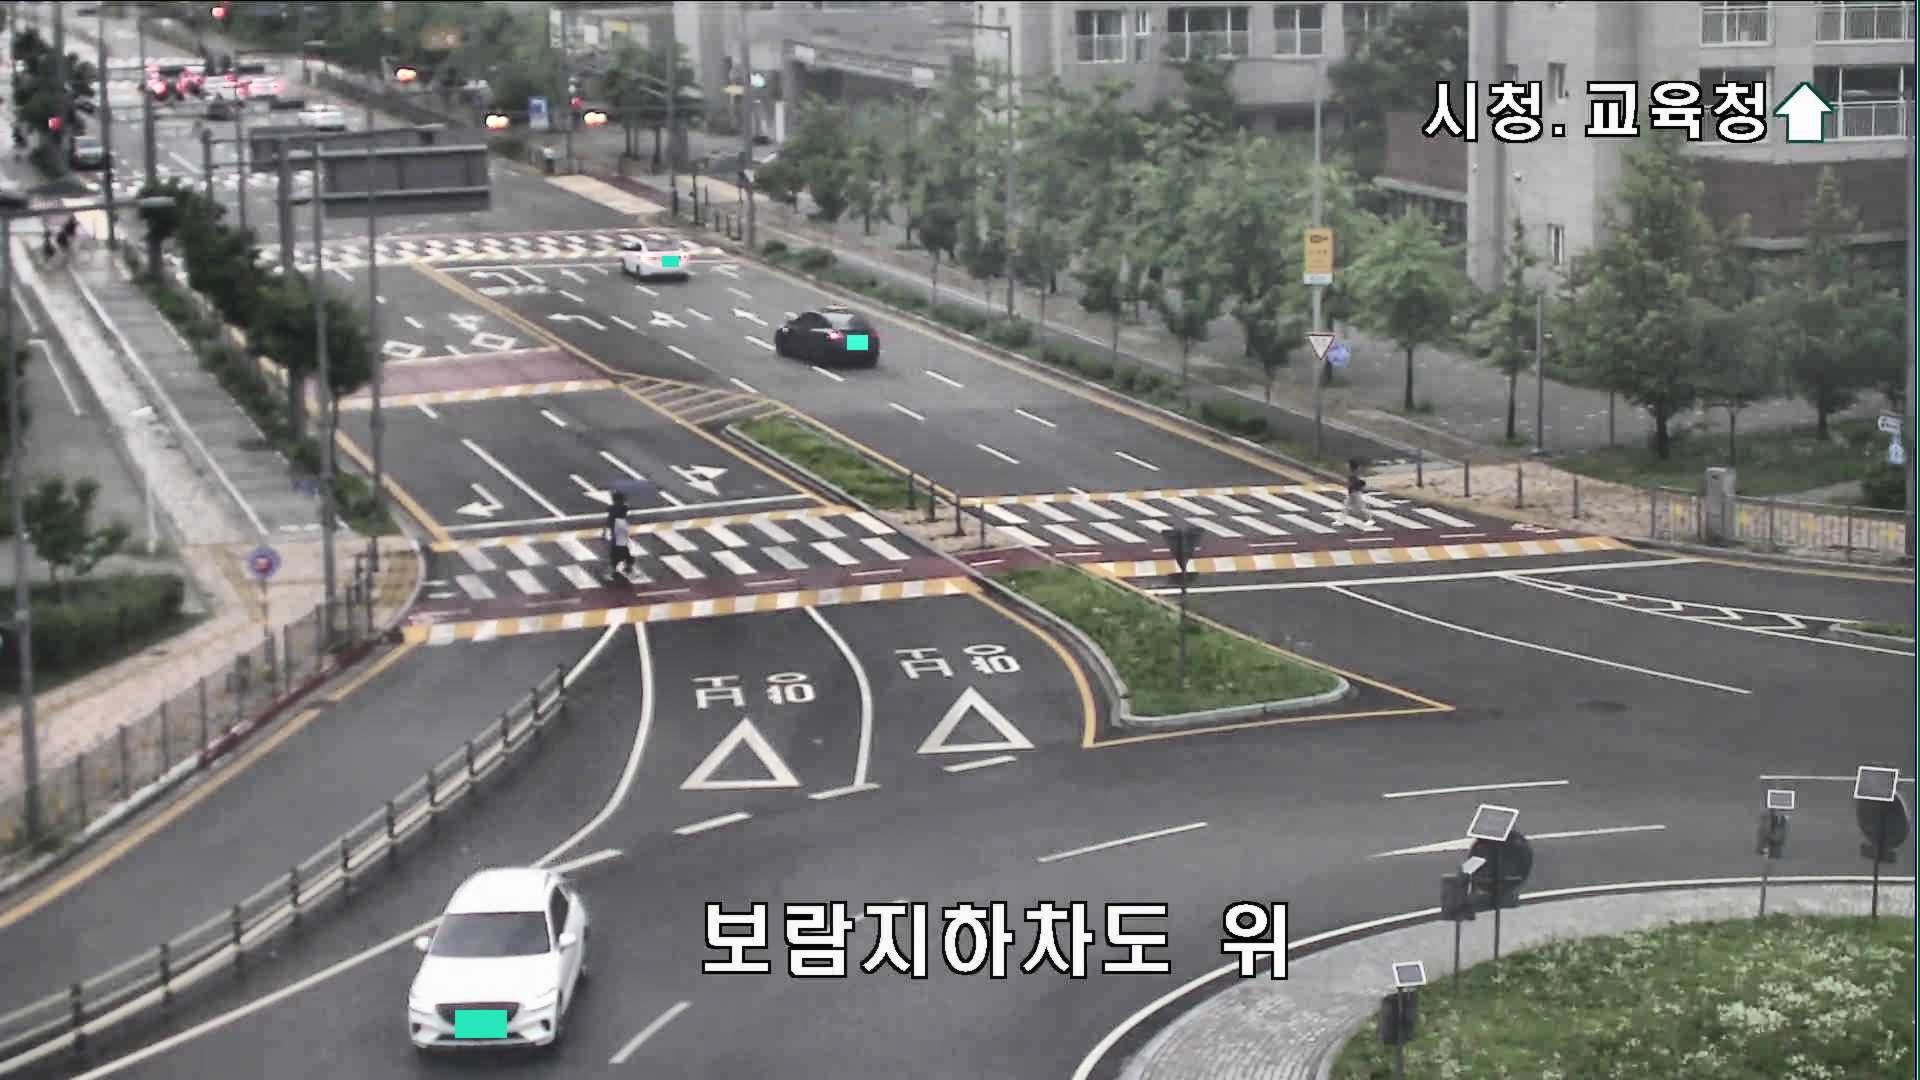crosswalk: (1336, 455, 1375, 531), (612, 506, 636, 578)
um_crosswalk: (605, 480, 655, 549)
